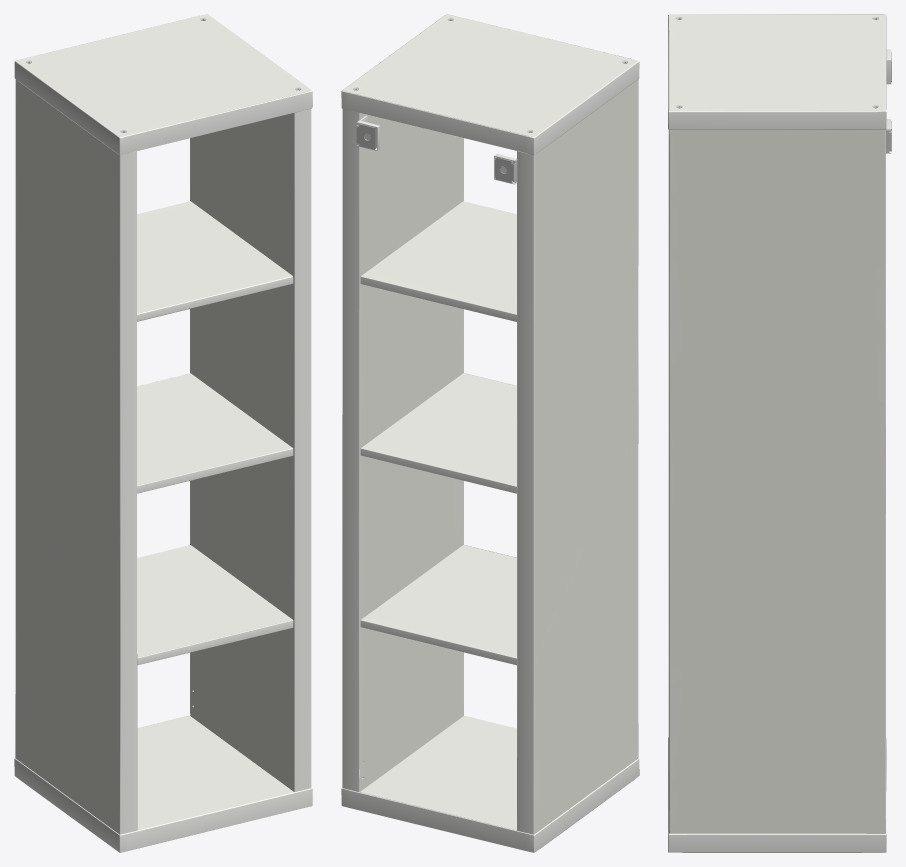
Rendered from BookShelf.glb.
3 renders of one model, left to right at view 1: azimuth 30°, elevation 25°; view 2: azimuth 150°, elevation 25°; view 3: azimuth 270°, elevation 25°, orthographic. The views are drawn at different scales.
Parts seen in each view (by area): view 1: KALLAX_002.758.48; view 2: KALLAX_002.758.48; view 3: KALLAX_002.758.48.
Part boxes in pixels (box(x1,y1,x2,y2)): KALLAX_002.758.48: box(14, 14, 312, 852); KALLAX_002.758.48: box(341, 14, 639, 852); KALLAX_002.758.48: box(668, 14, 891, 852).
Bounding box in the file's own units: 0.4142 × 1.47 × 0.4012.
1 material, 1 textured.
